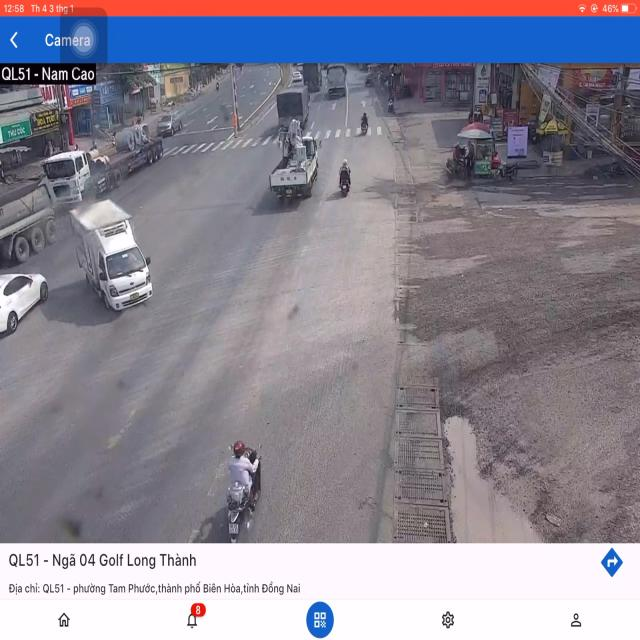car: (0, 269, 48, 340), (160, 112, 179, 137)
motorbike: (221, 441, 258, 540), (340, 158, 353, 197)
truck: (74, 203, 149, 316), (48, 131, 162, 199), (270, 132, 321, 206), (275, 87, 312, 128), (325, 68, 348, 99)
